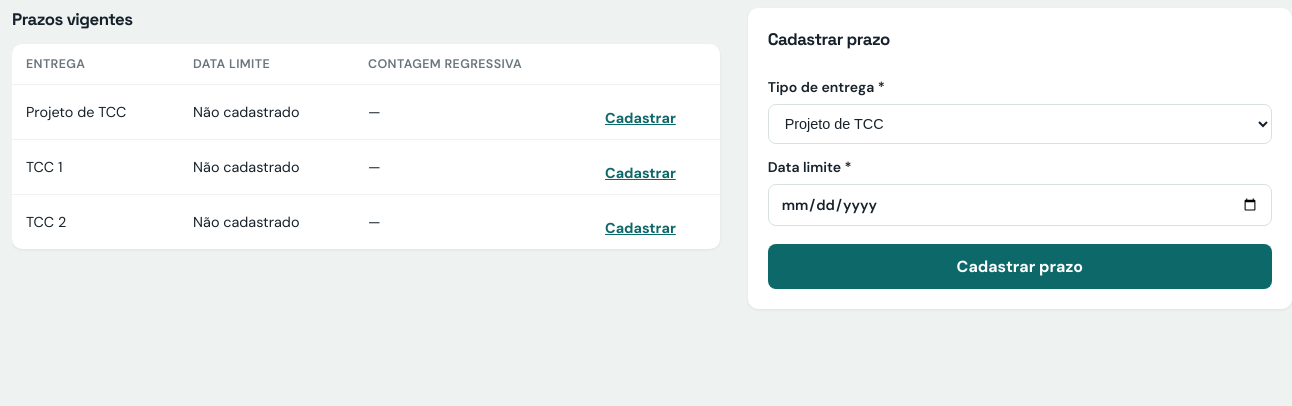
GestaoCalendario › deve exibir as mensagens de erro de validação retornadas pelo backend (422 e 400)
Type "2020-01-01" into the date field labelled "Data limite *". click: (1020, 205)
box: [768,184,1272,226]
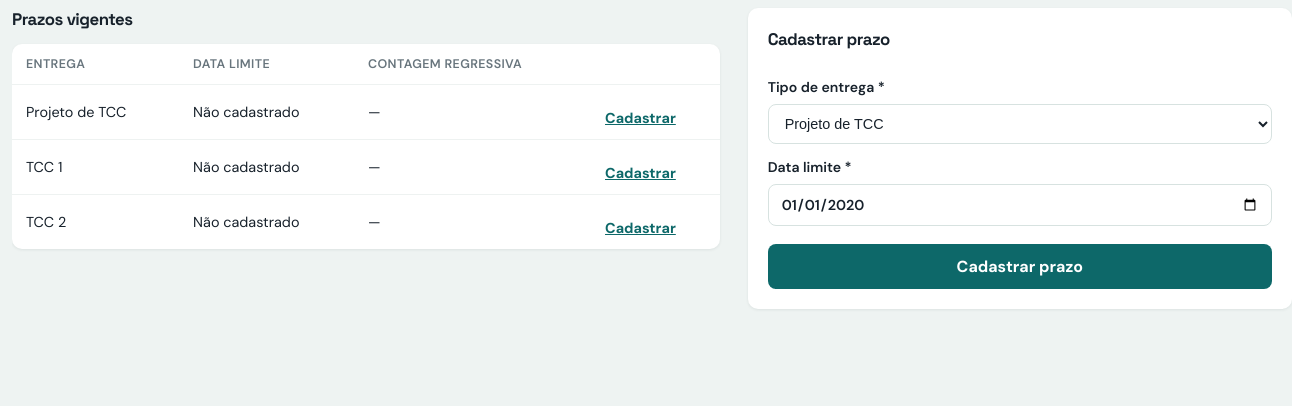
Click the button "Cadastrar prazo". click: (1020, 266)
box: [768,244,1272,289]
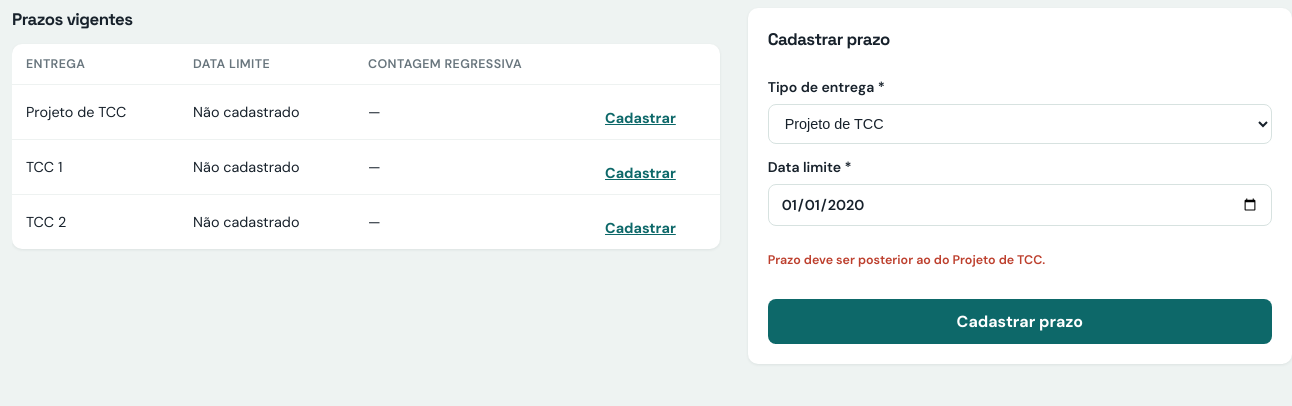
Expected: the text "Prazo deve ser posterior ao do Projeto de TCC." is shown, [768,252,1045,268]
Click the button "Cadastrar prazo". click: (1020, 321)
box: [768,299,1272,344]
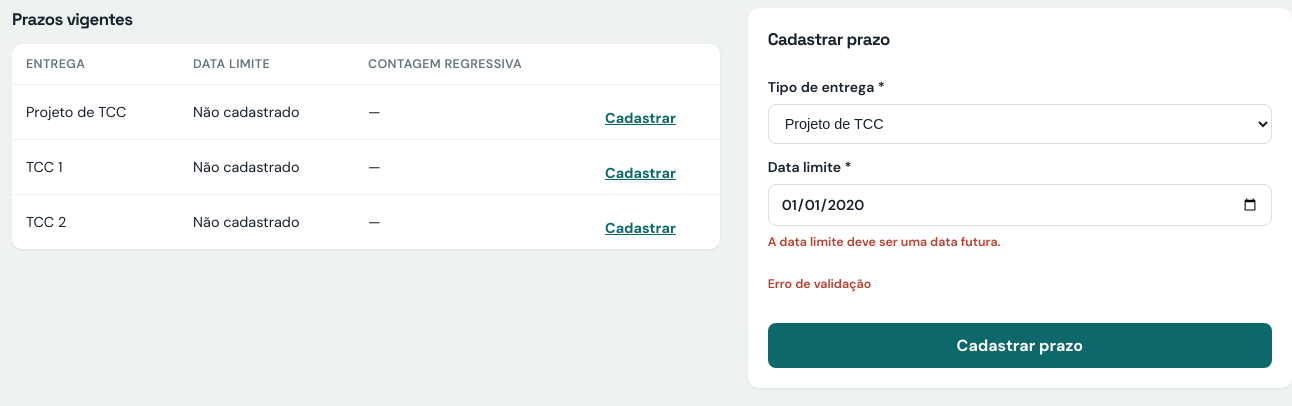
Expected: the text "A data limite deve ser uma data futura." is shown, [768,234,1000,250]
